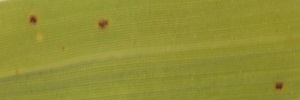RiceBrownSpot: (93, 14, 116, 34), (24, 10, 44, 32), (270, 77, 289, 95)
